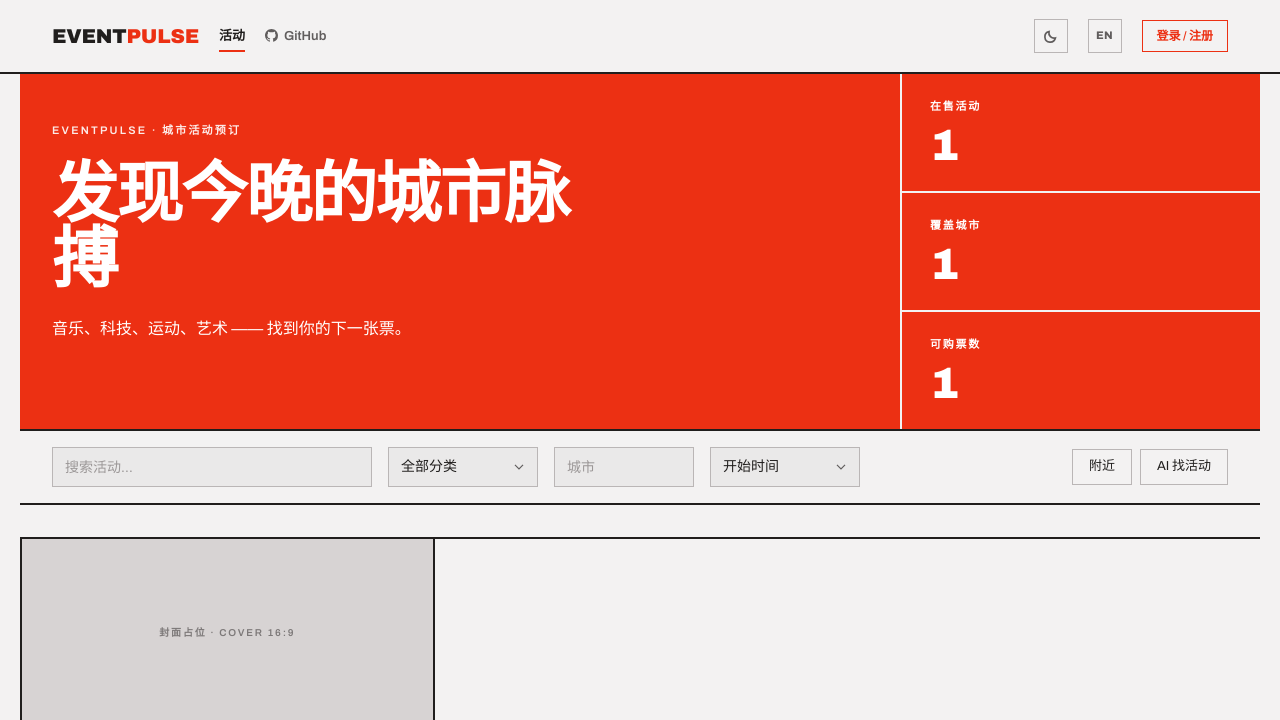
Test: discovery page design elements › shows an empty state when the search matches nothing
Type "zzz" into the field with placeholder "搜索活动…" at (212, 467), box [52,447,372,487]
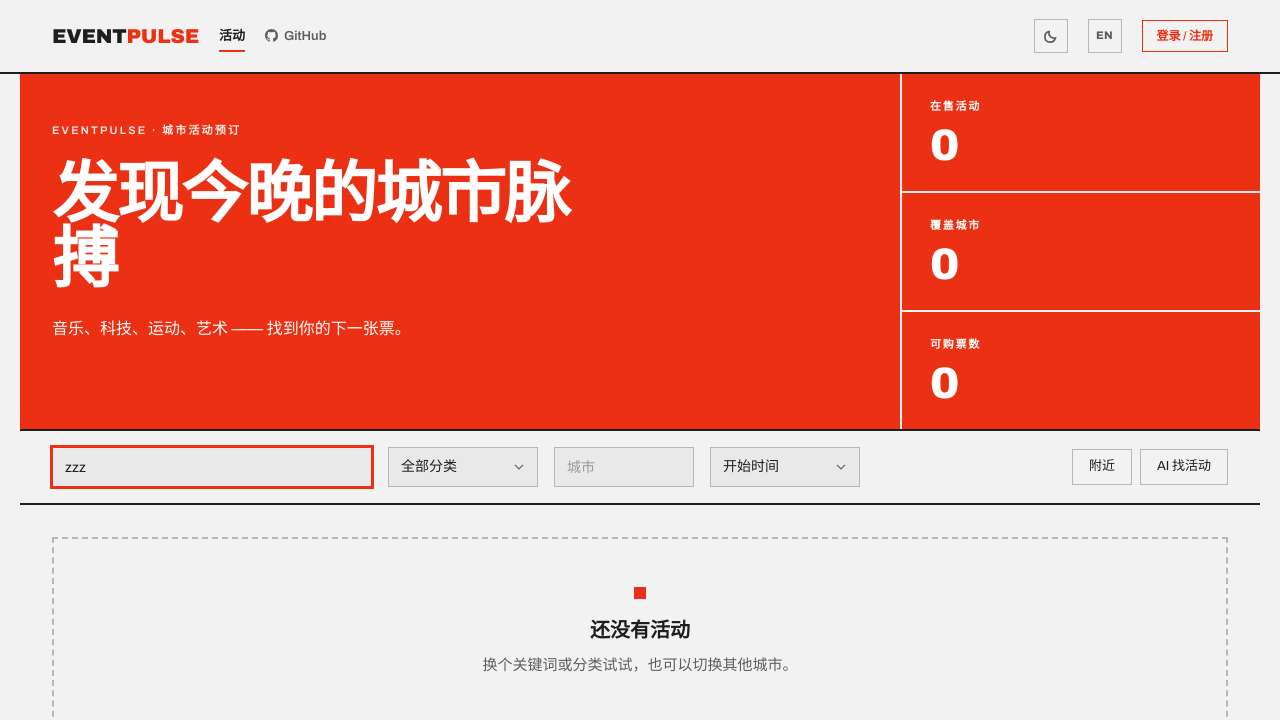
Expected: the text "还没有活动" is shown, [590,619,690,641]
